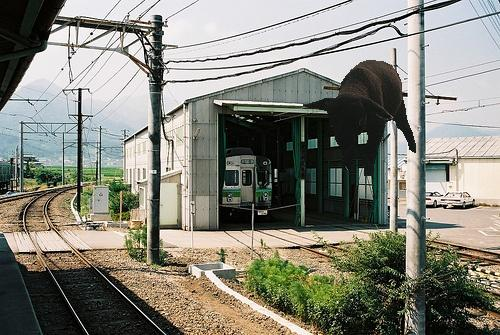tampered: (304, 61, 416, 176)
